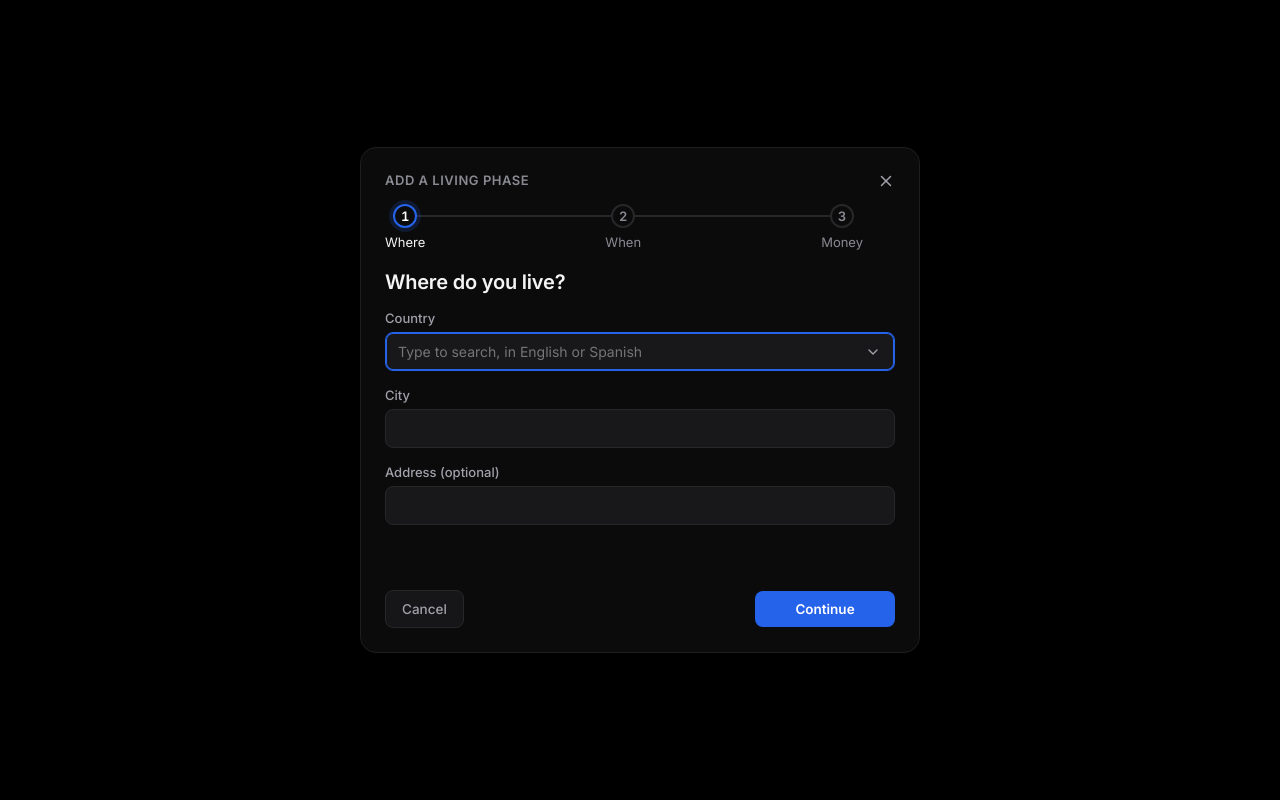
PhaseWizard › rejects a move-in date in the future at once, and offers no later day in the picker
Type "port" into the dropdown labelled "Country" at x=640, y=352, box [385,332,895,371]
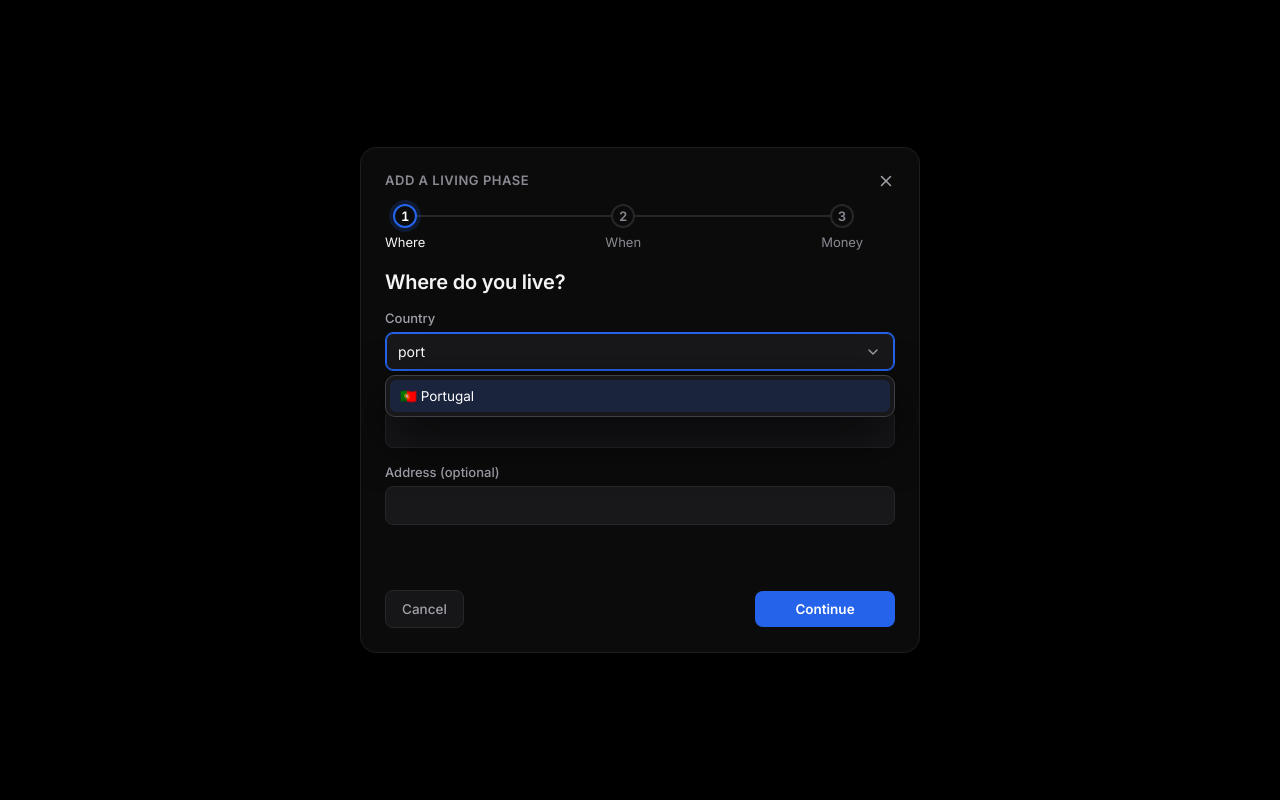
Click the option "🇵🇹 Portugal" at x=447, y=396, box [390,380,890,412]
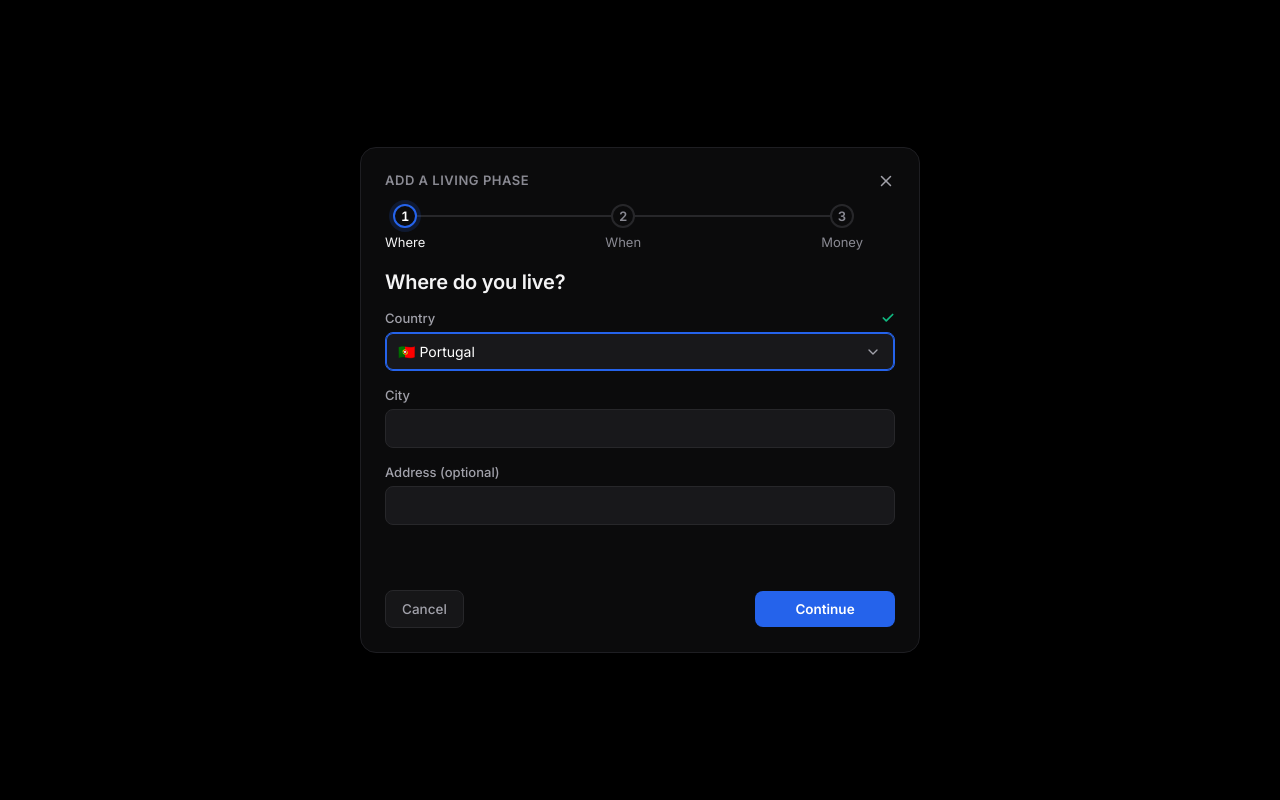
Type "Lisbon" into the field labelled "City" at x=640, y=428, box [385,409,895,448]
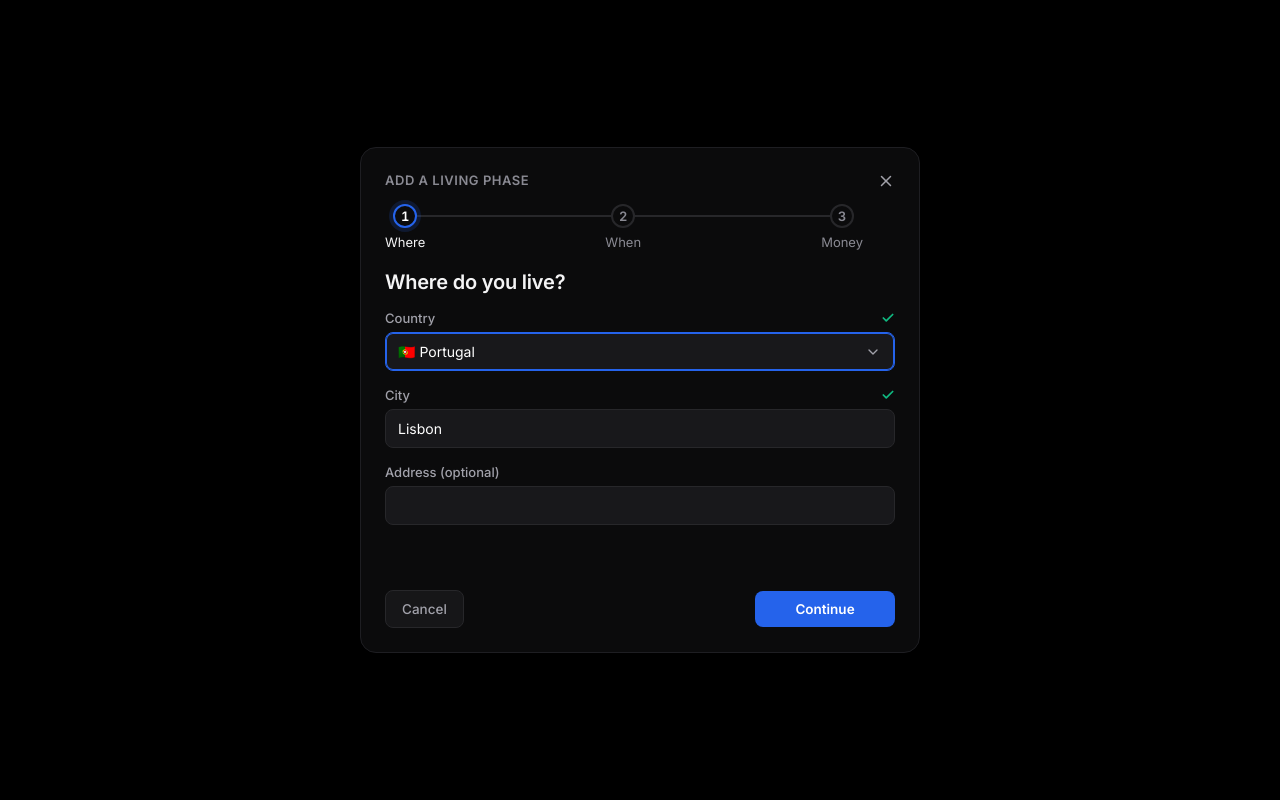
Click the button "Continue" at x=825, y=609, box [755,591,895,627]
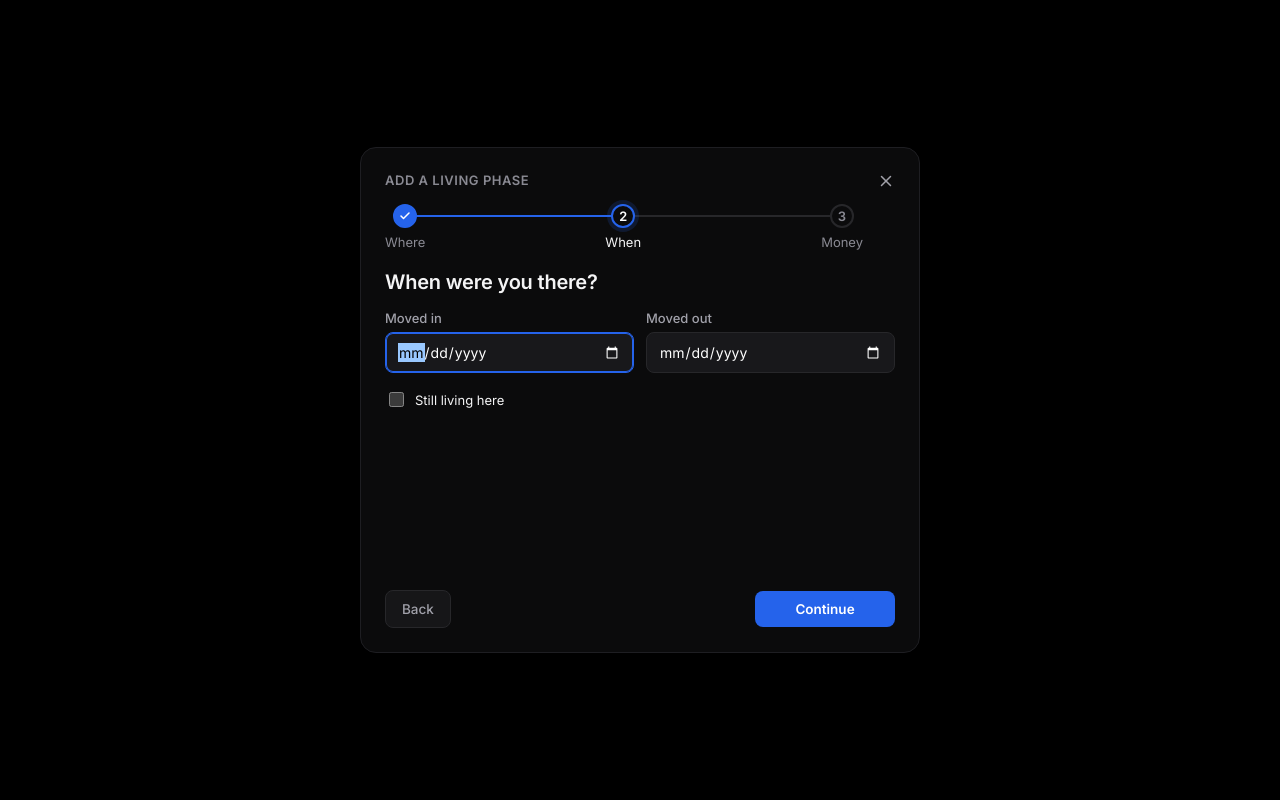
Type "2026-11-01" into the date field labelled "Moved in" at x=510, y=352, box [385,332,634,373]
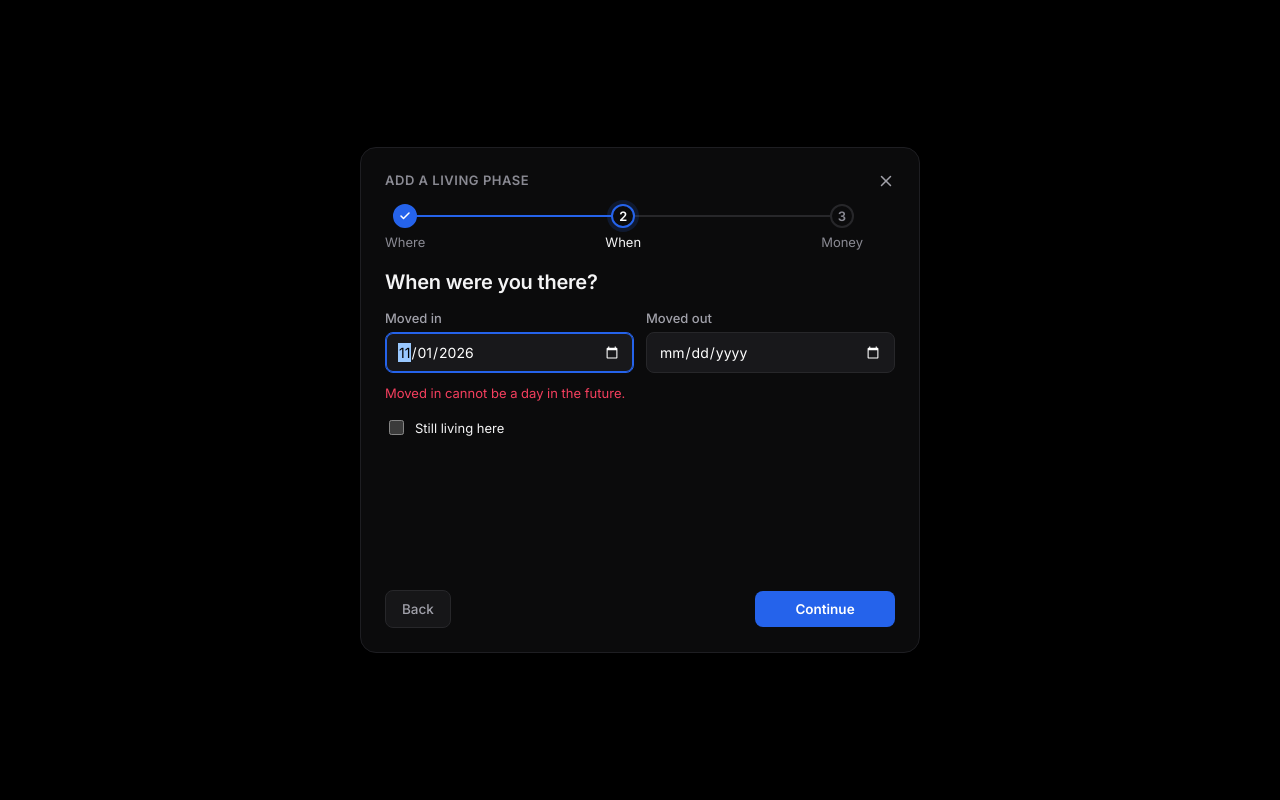
Check: the text "Moved in cannot be a day in the future." is shown, box [385,385,634,401]
